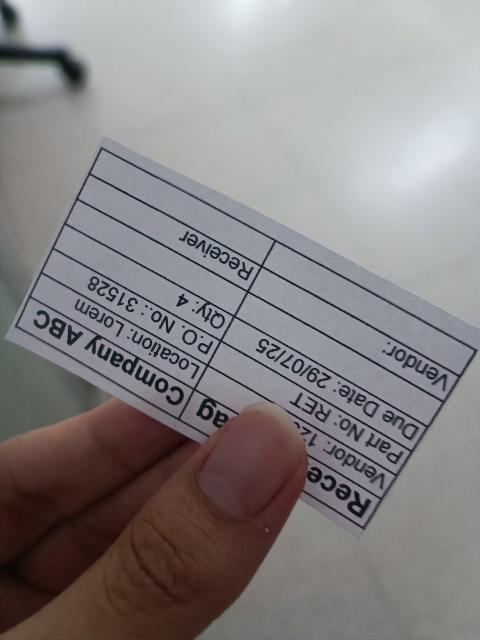PO no: (44, 250, 222, 364)
part no: (208, 341, 410, 474)
qty: (53, 223, 235, 341)
tags: (5, 137, 480, 541)
